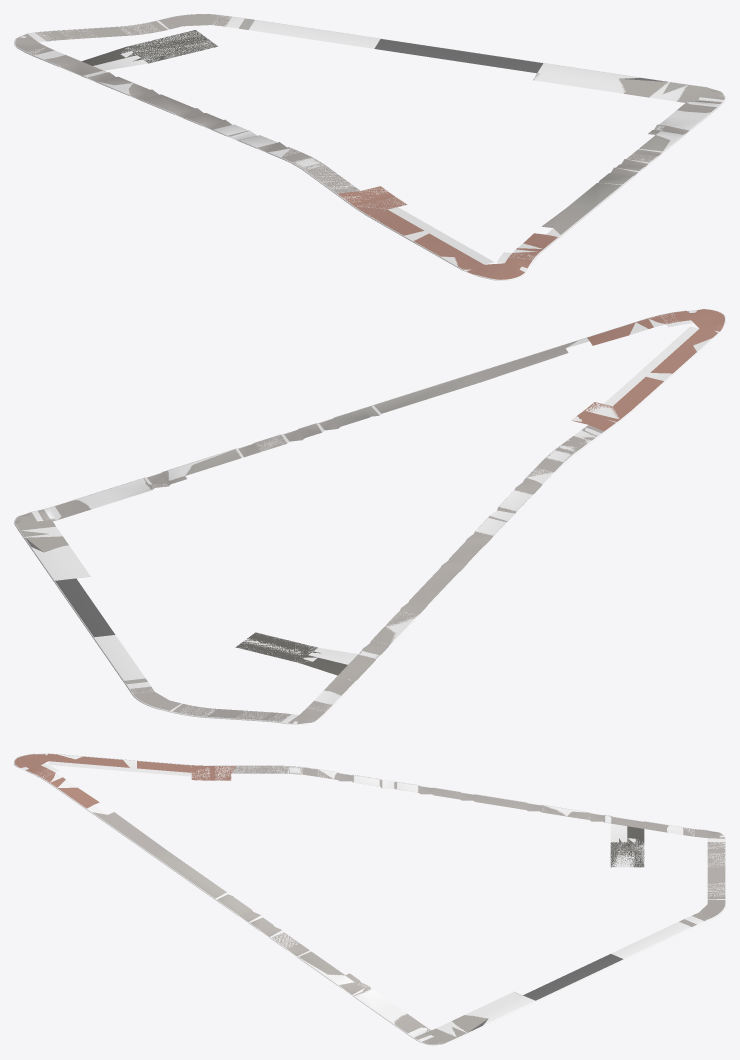
The model's file is sidewalk_triangular.dae.
3 renders of one model, top to bottom at view 1: azimuth 30°, elevation 25°; view 2: azimuth 150°, elevation 25°; view 3: azimuth 270°, elevation 25°, orthographic. The views are drawn at different scales.
Parts seen in each view (by area): view 1: sidewalk_triangular_a2000, sidewalk_triangular_a3000; view 2: sidewalk_triangular_a2000, sidewalk_triangular_a3000; view 3: sidewalk_triangular_a2000, sidewalk_triangular_a3000.
Boxes of the visible parts, bbox=[...] form: sidewalk_triangular_a2000: bbox=[15, 14, 724, 279]; sidewalk_triangular_a3000: bbox=[14, 14, 725, 280]; sidewalk_triangular_a2000: bbox=[15, 309, 724, 724]; sidewalk_triangular_a3000: bbox=[14, 309, 725, 724]; sidewalk_triangular_a2000: bbox=[14, 754, 725, 1044]; sidewalk_triangular_a3000: bbox=[14, 753, 725, 1045].
Bounding box in the file's own units: 101 × 162 × 26.47.
